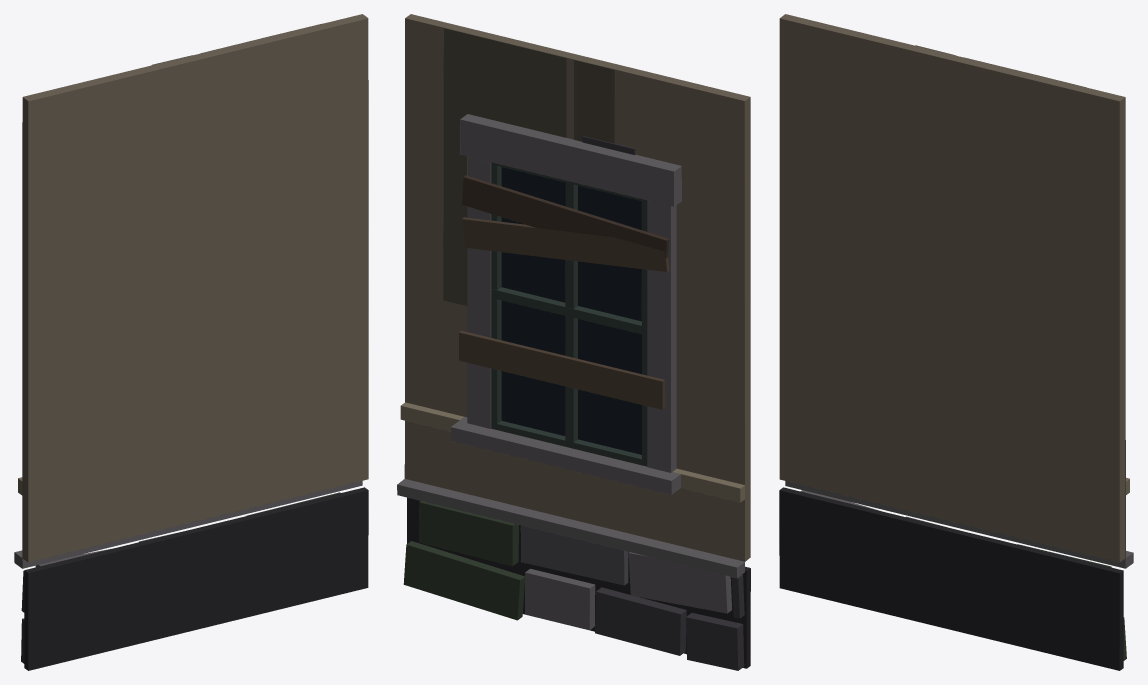
Rendered from SM_ENV_FachadaJanela.fbx.
3 renders of one model, left to right at view 1: azimuth 30°, elevation 25°; view 2: azimuth 150°, elevation 25°; view 3: azimuth 330°, elevation 25°, orthographic.
Visible parts, largest first — view 1: SM_ENV_FachadaJanela; view 2: SM_ENV_FachadaJanela; view 3: SM_ENV_FachadaJanela.
Boxes of the visible parts, x1,y1,x2,y2 form: SM_ENV_FachadaJanela: (14, 14, 368, 670); SM_ENV_FachadaJanela: (397, 14, 750, 670); SM_ENV_FachadaJanela: (779, 14, 1133, 670).
Size of the model in its own units: 2 by 3.22 by 0.2013.
